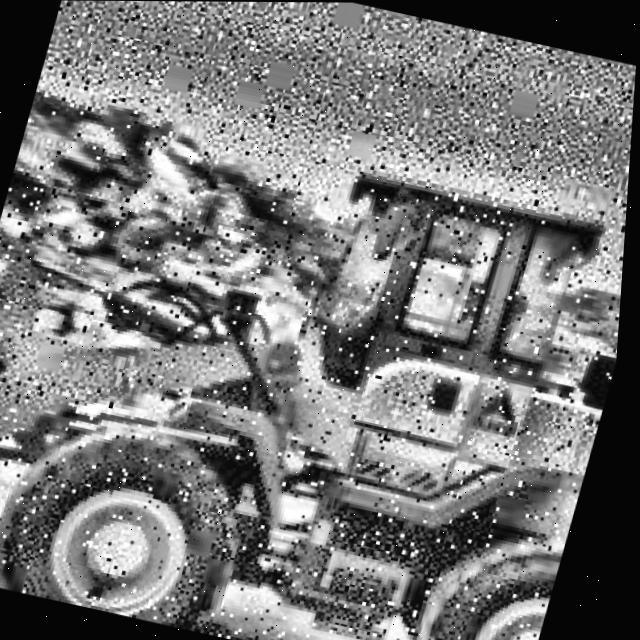buldozerpayloadergrader: (0, 60, 637, 640)
